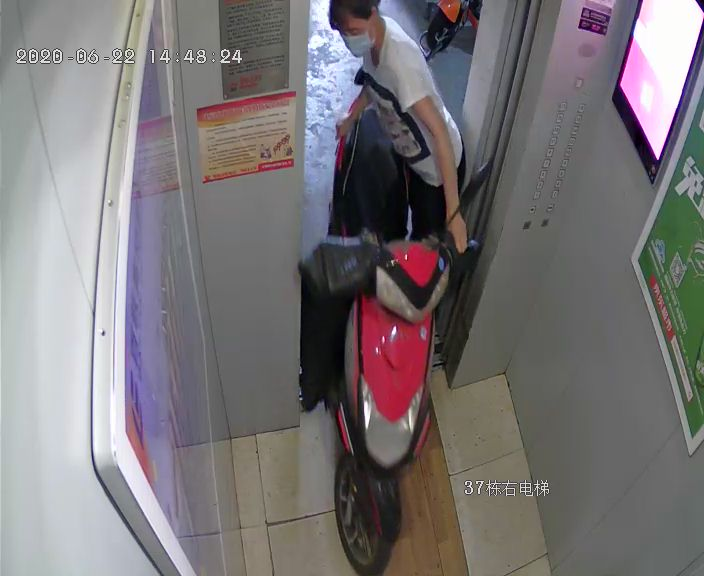Electric-bicycle: (330, 85, 487, 576)
